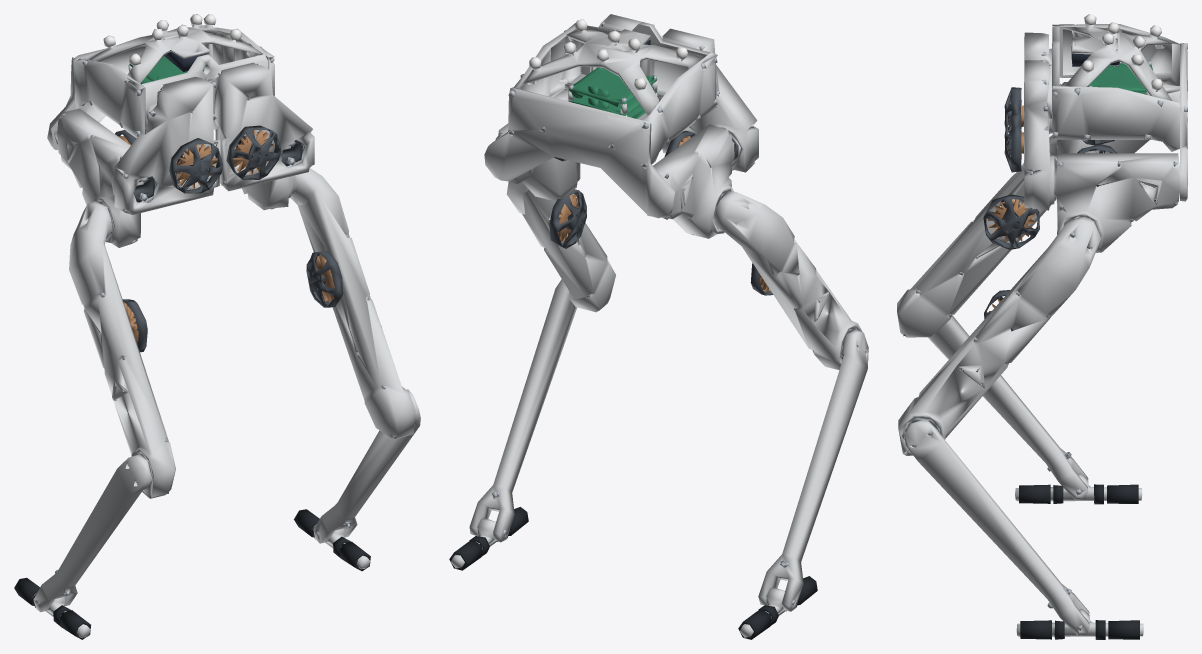
The model's file is Bolt_LOD2.fbx.
3 views of the same model, side by side, from view 1: azimuth 30°, elevation 25°; view 2: azimuth 150°, elevation 25°; view 3: azimuth 270°, elevation 25° (orthographic). The views are drawn at different scales.
Visible parts, largest first — view 1: MM_Bolt_mobile_overview; view 2: MM_Bolt_mobile_overview; view 3: MM_Bolt_mobile_overview.
Boxes of the visible parts, box(x1,y1,x2,y2) form: MM_Bolt_mobile_overview: box(14, 14, 420, 639); MM_Bolt_mobile_overview: box(449, 14, 868, 639); MM_Bolt_mobile_overview: box(897, 14, 1187, 639).
Bounding box in the file's own units: 0.2788 × 0.4672 × 0.228.
